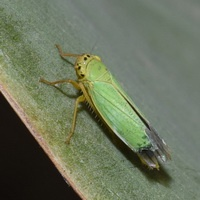insect: (39, 44, 170, 169)
